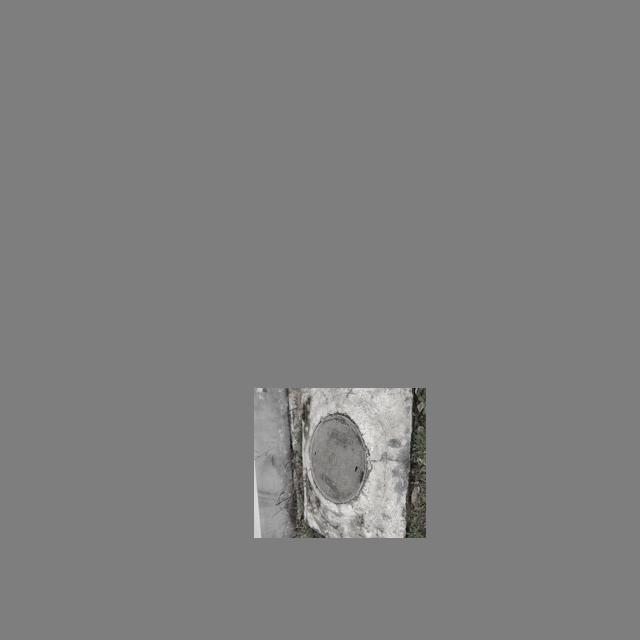good: (310, 415, 366, 503)
